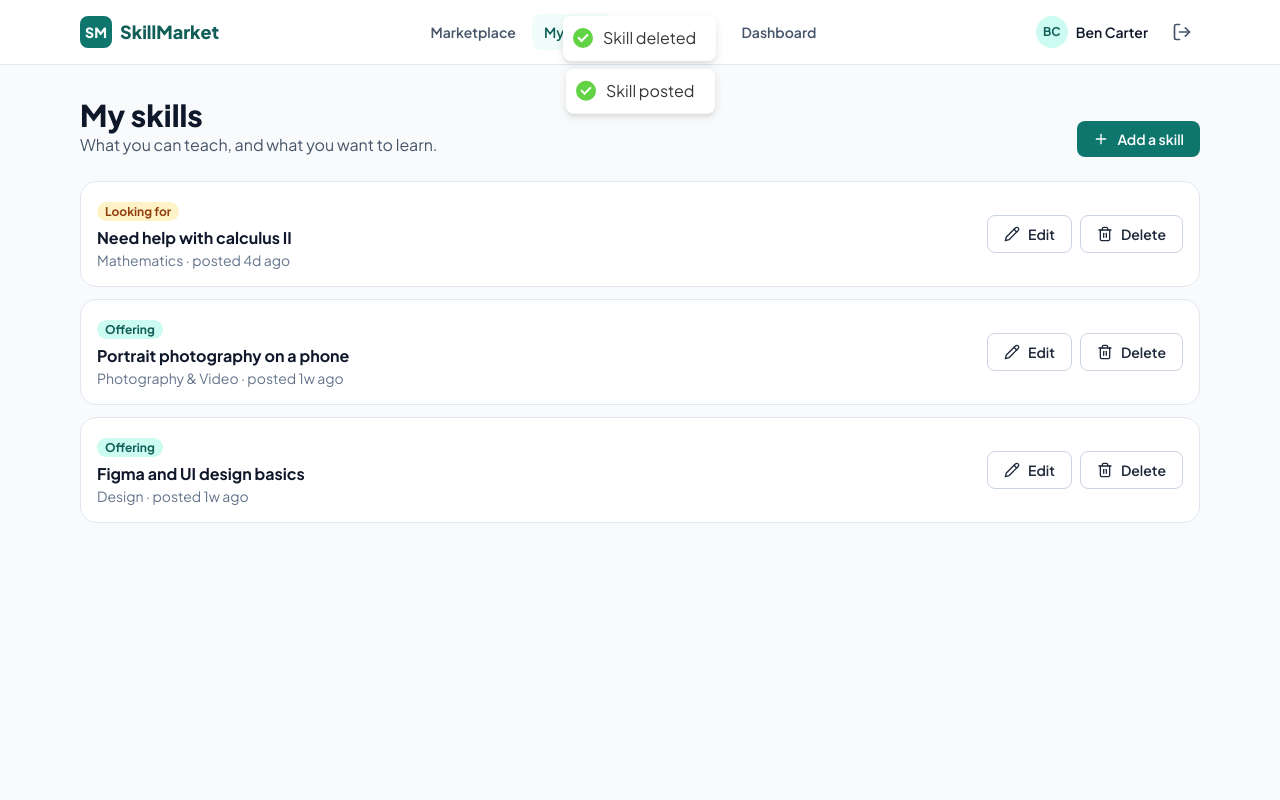
my skills and profile › edits an existing skill
Click the button with aria-label "Edit Figma and UI design basics" at (1029, 470), box [987,451,1072,489]
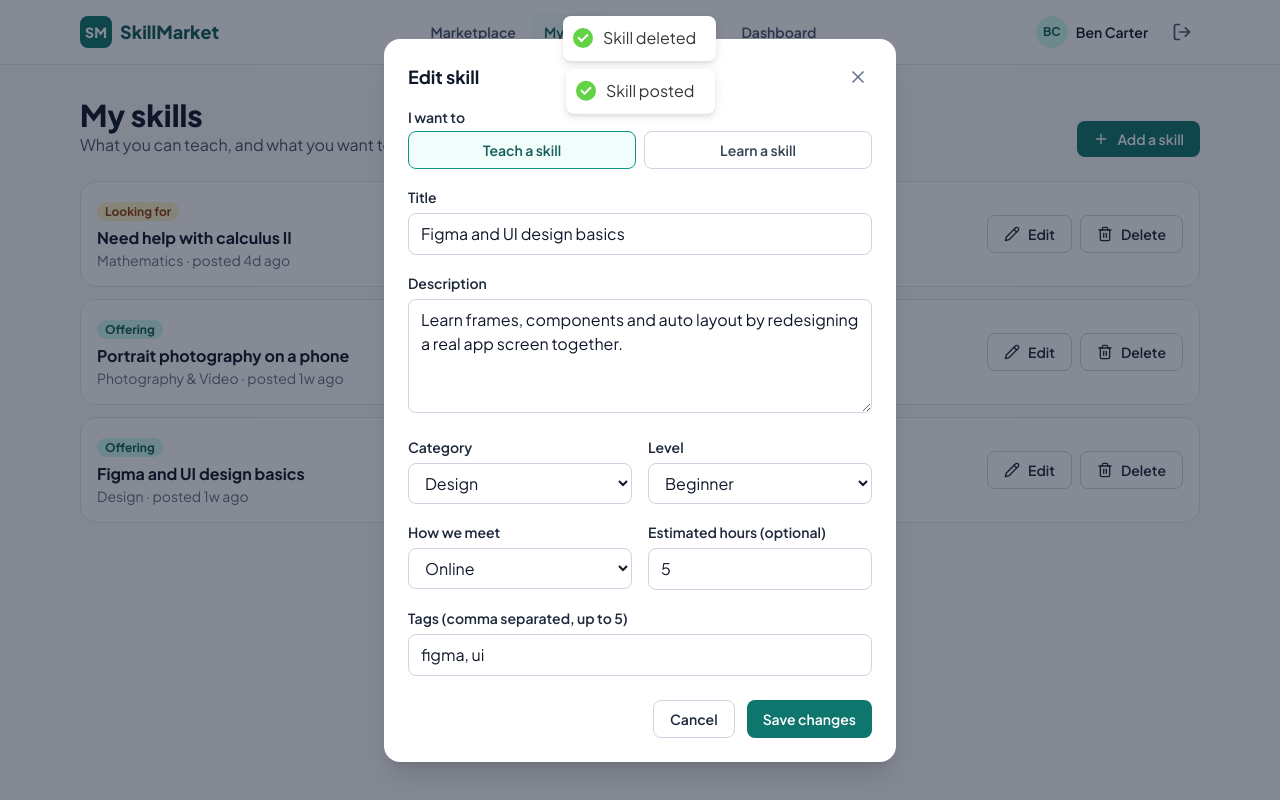
Replace the text in the field labelled "Title" with "Figma masterclass" at (640, 234), box [408,212,872,254]
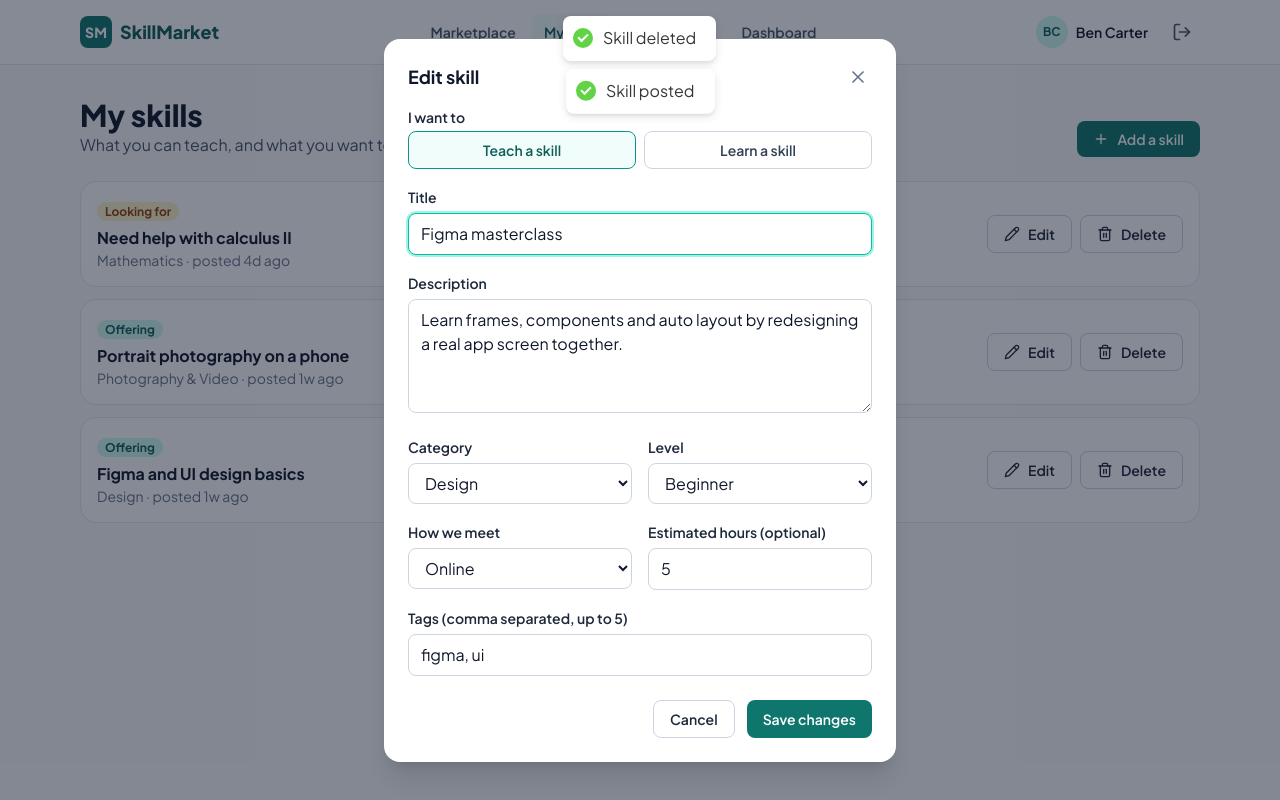
Click the button "Save changes" at (809, 718), box [747,700,872,738]
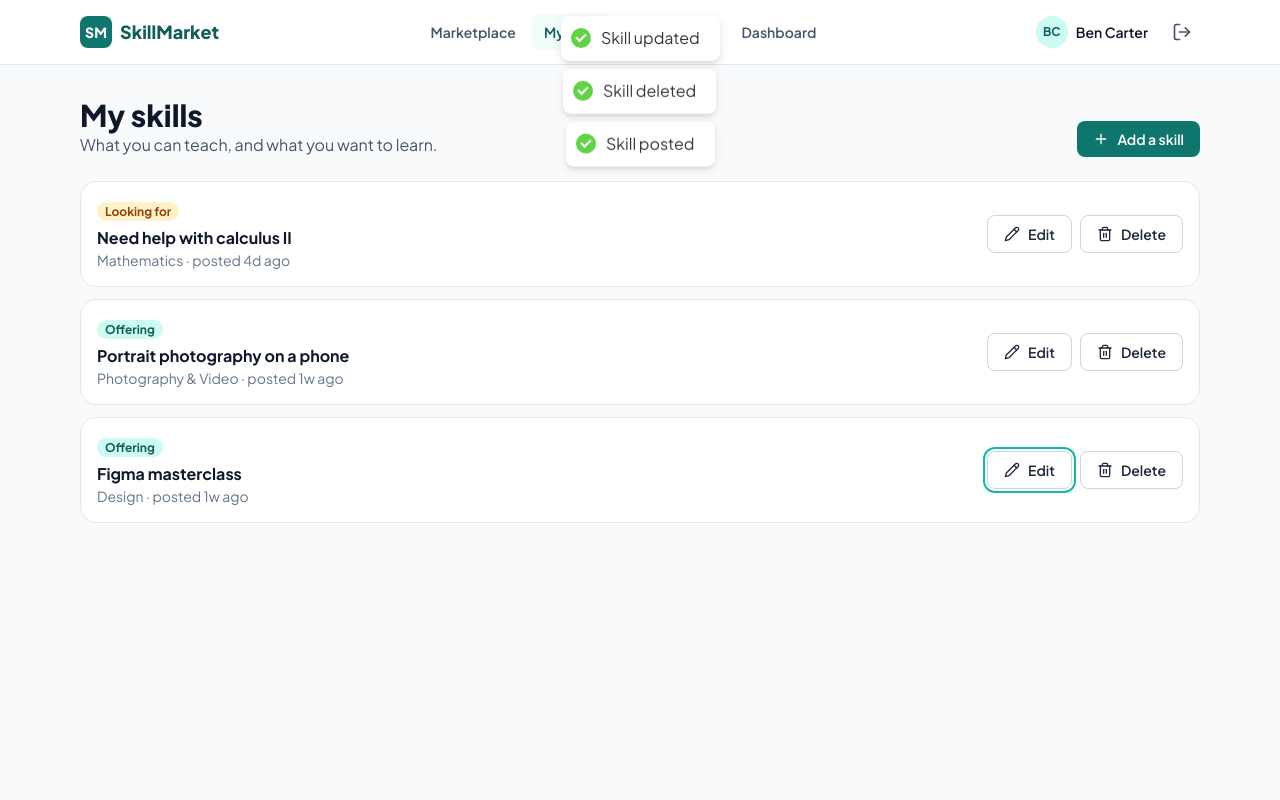
expect the link "Figma masterclass" is shown: met, box [97,463,242,484]
